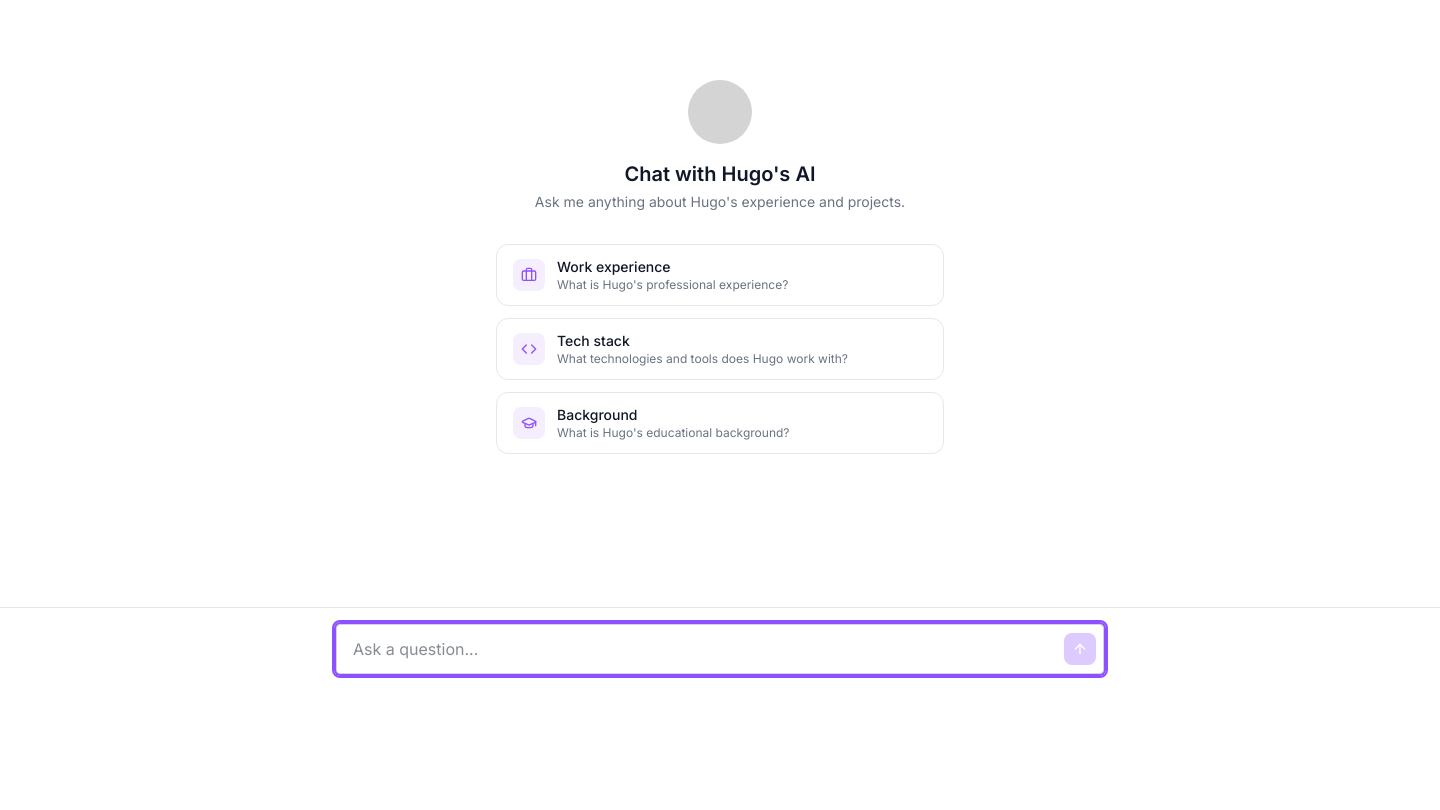
Test: ChatPage › shows clear button after sending a message
The width and height of the screenshot is (1440, 810).
Type "Hi" into the field with placeholder "Ask a question..." at (720, 649), box top-left (336, 624), bottom-right (1104, 674)
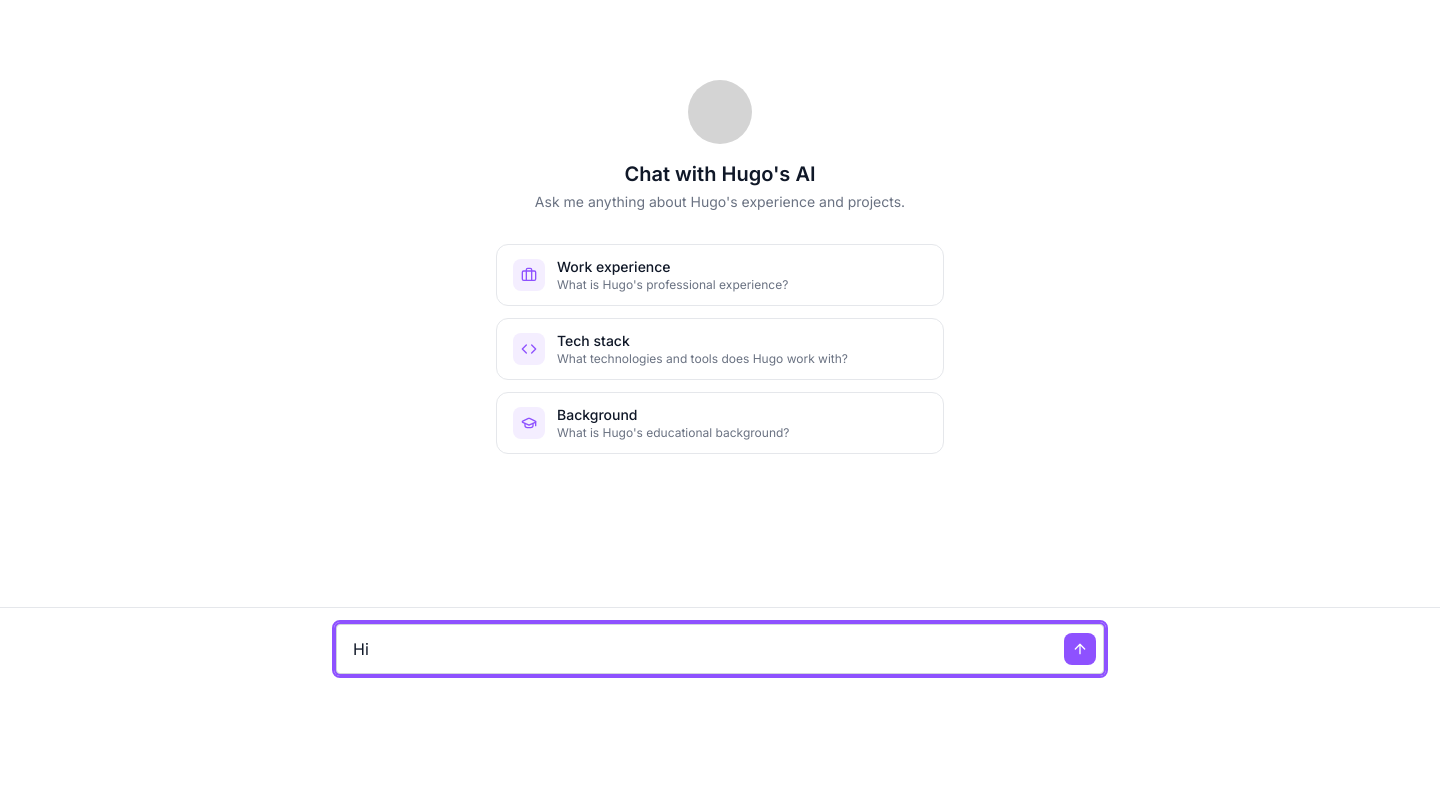
Press Enter
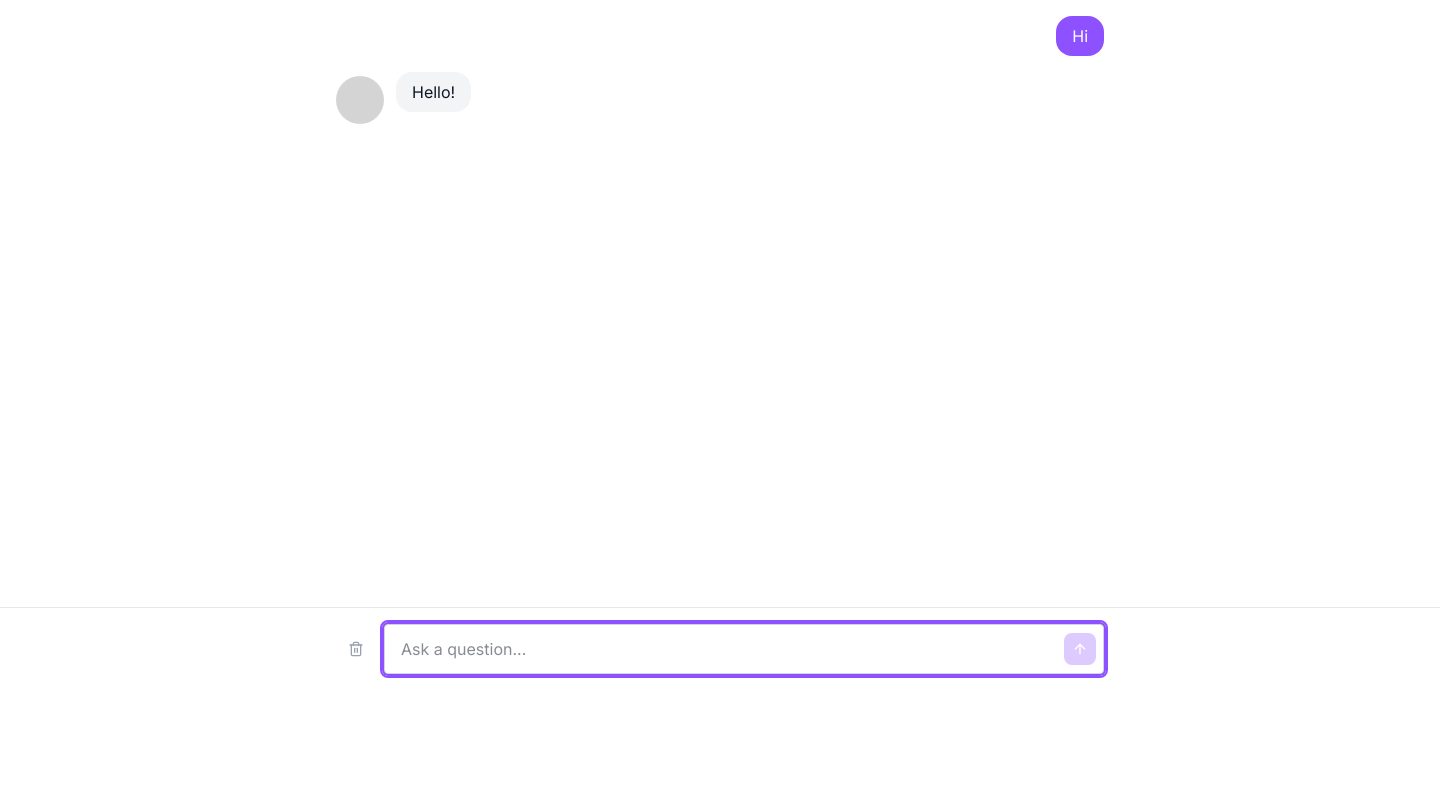
Result: the button titled "Clear chat" is shown at top-left (336, 629), bottom-right (376, 669)
